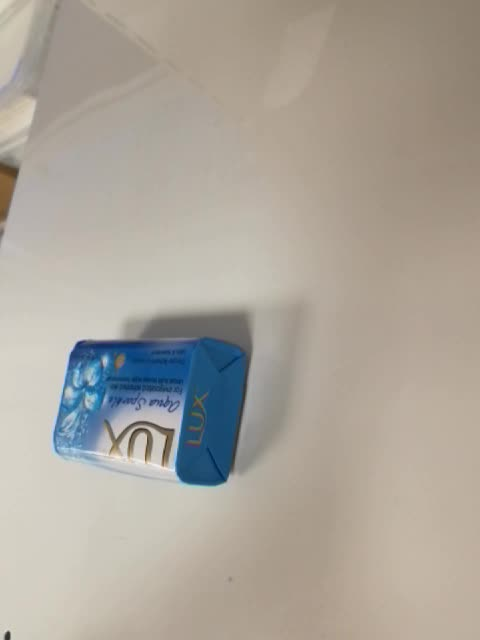soap: (51, 336, 250, 488)
